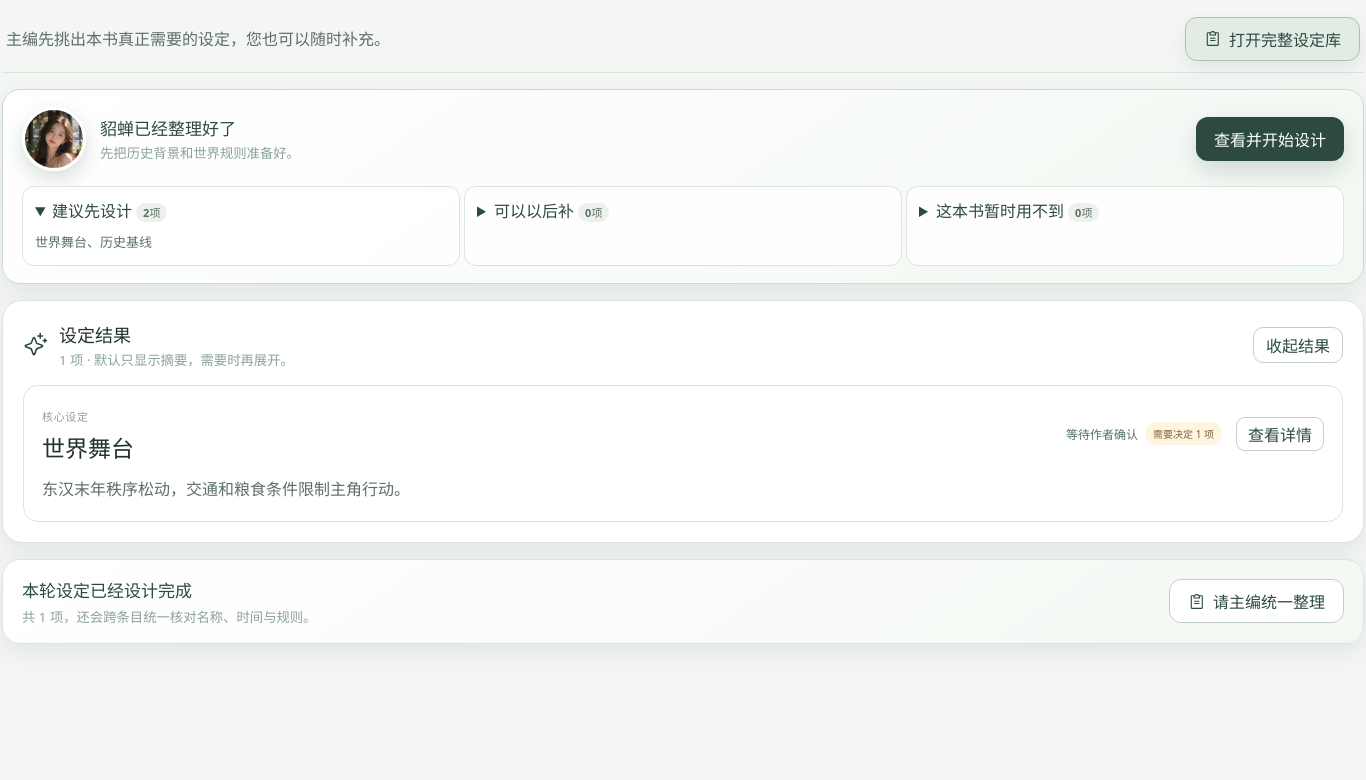
Scenario: V7设定页面 › 主编结果默认折叠设计思路，作者可确认形成新版本
Expected: the text "东汉末年秩序松动，交通和粮食条件限制主角行动。" is shown, [42,478,410,500]
Expected: the text "设计思路" is not shown
Click the button "查看详情" at {"x": 1280, "y": 434}, box [1236,417,1324,451]
(page scrolled)
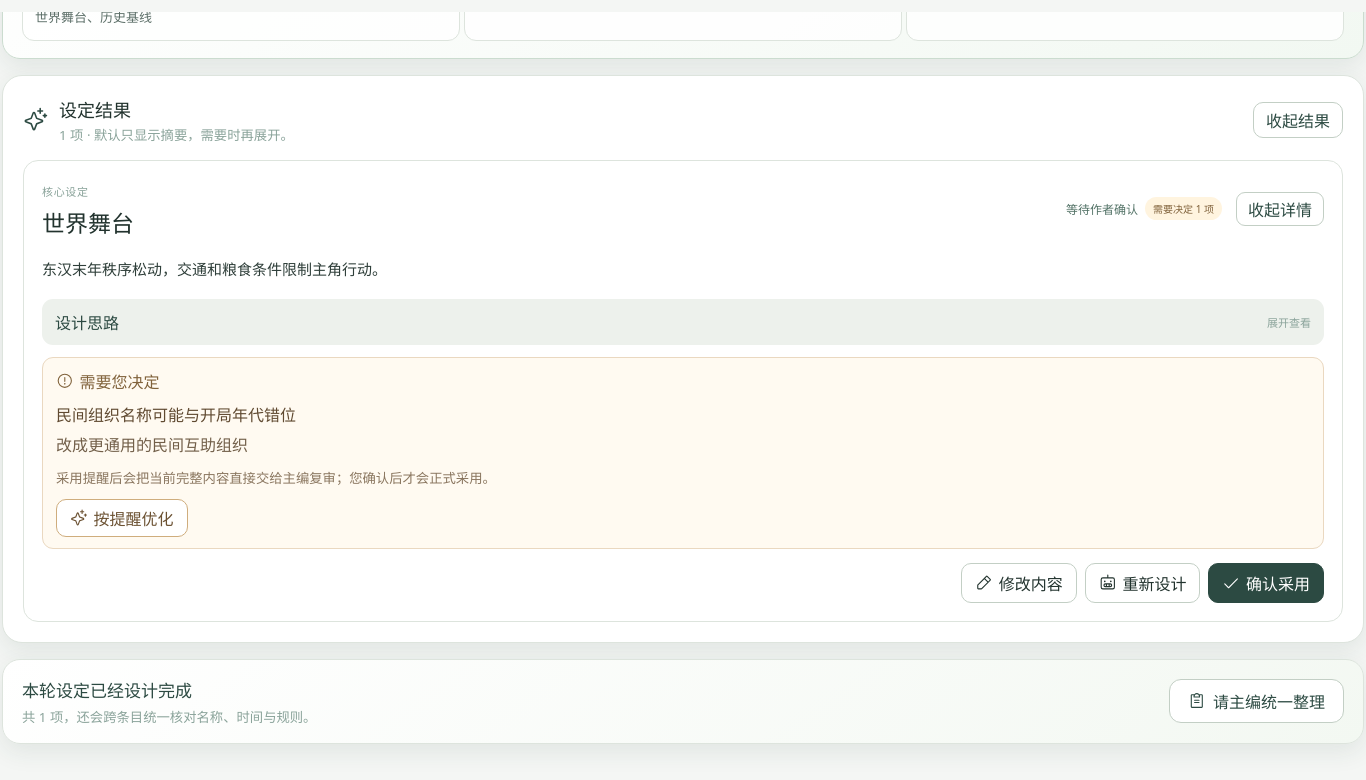
Click the button "确认采用" at {"x": 1266, "y": 583}, box [1208,563,1324,603]
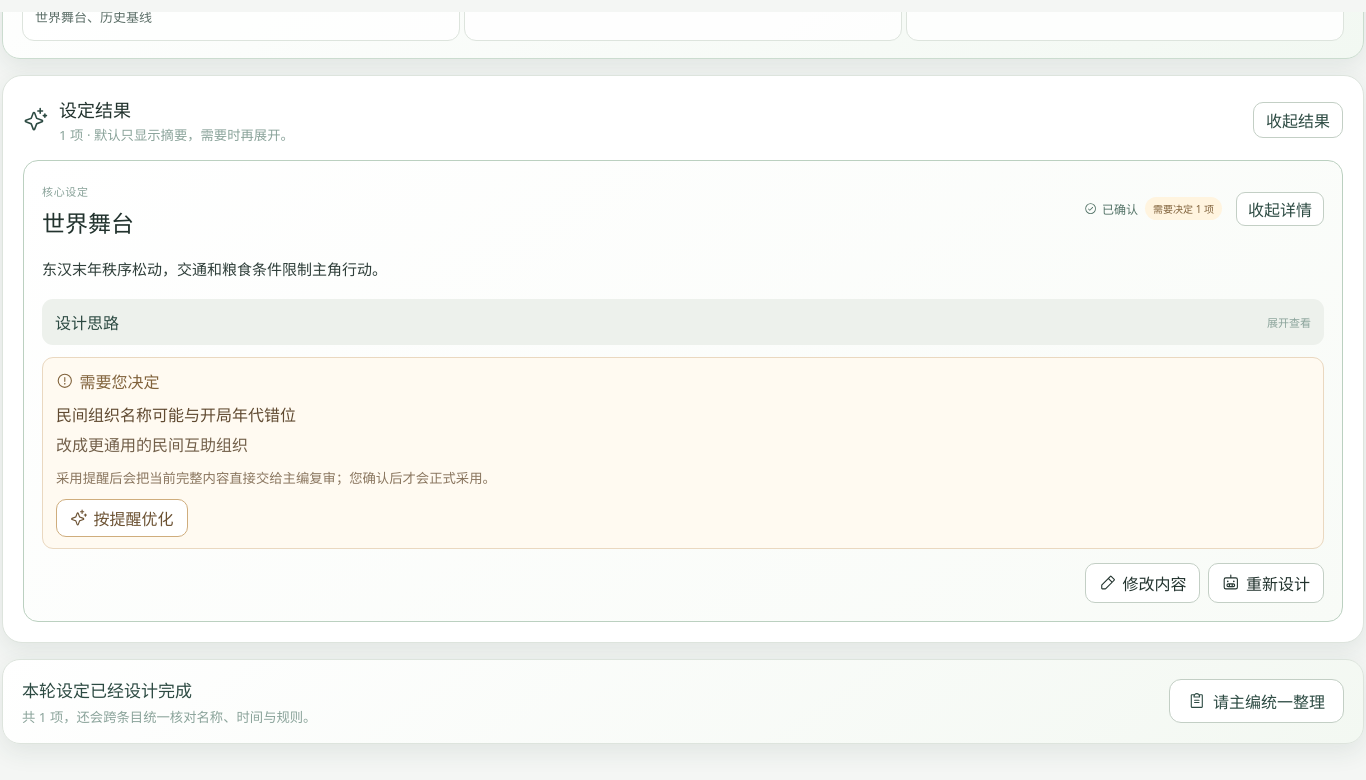
Now the text "已确认" is shown, box [1084,200,1138,218]
